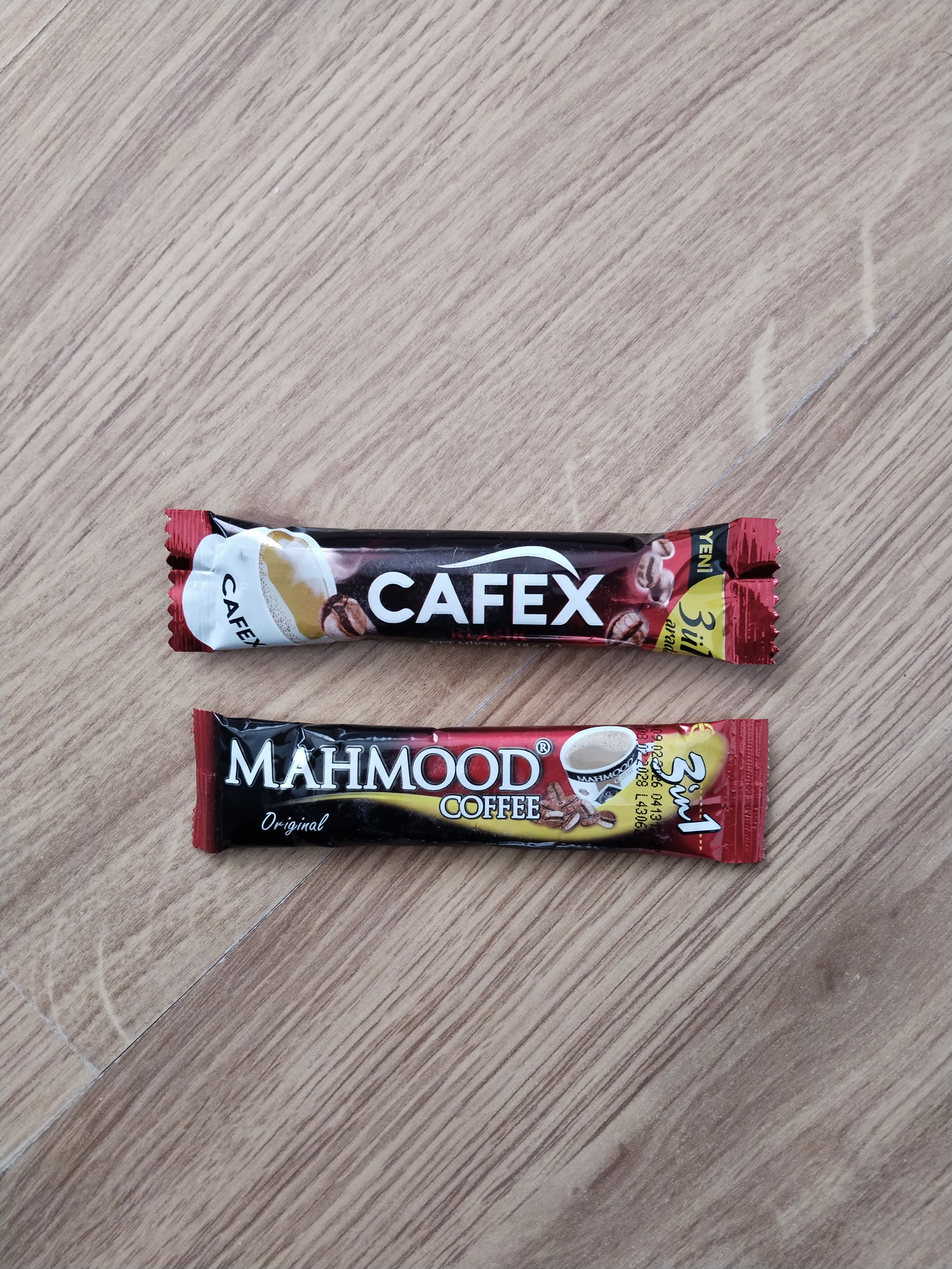cafex_kahve: (166, 501, 778, 660)
mahmood_kahve: (190, 712, 771, 861)
